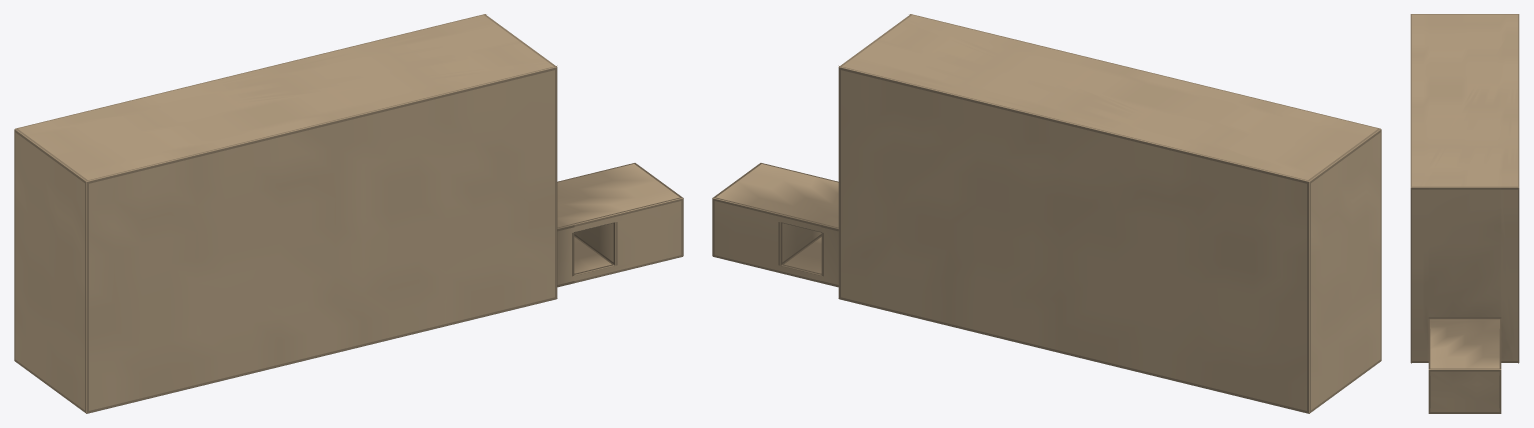
The model's file is beam-xn.glb.
3 renders of one model, left to right at view 1: azimuth 30°, elevation 25°; view 2: azimuth 150°, elevation 25°; view 3: azimuth 270°, elevation 25°, orthographic. The views are drawn at different scales.
Visible parts, largest first — view 1: beam-xn; view 2: beam-xn; view 3: beam-xn.
Part boxes in pixels (x1,y1,x2,y2): beam-xn: [14, 14, 683, 413]; beam-xn: [712, 14, 1381, 413]; beam-xn: [1410, 14, 1519, 413].
Bounding box in the file's own units: 0.4408 × 0.1614 × 0.0908.
